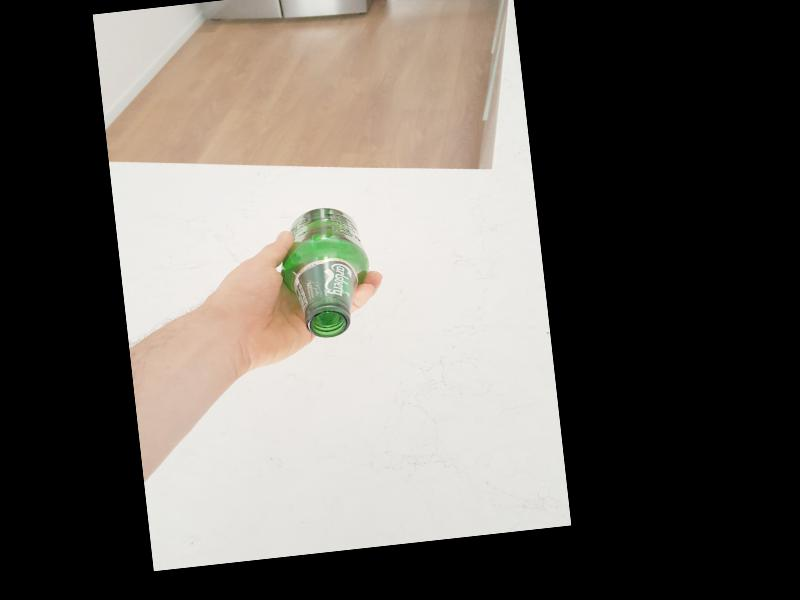Beer: (276, 202, 375, 341)
